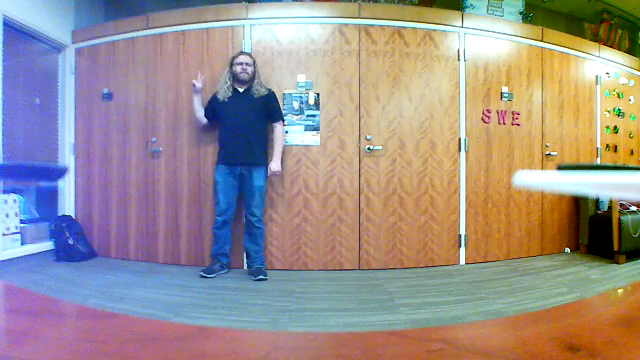peace: (189, 66, 208, 96)
